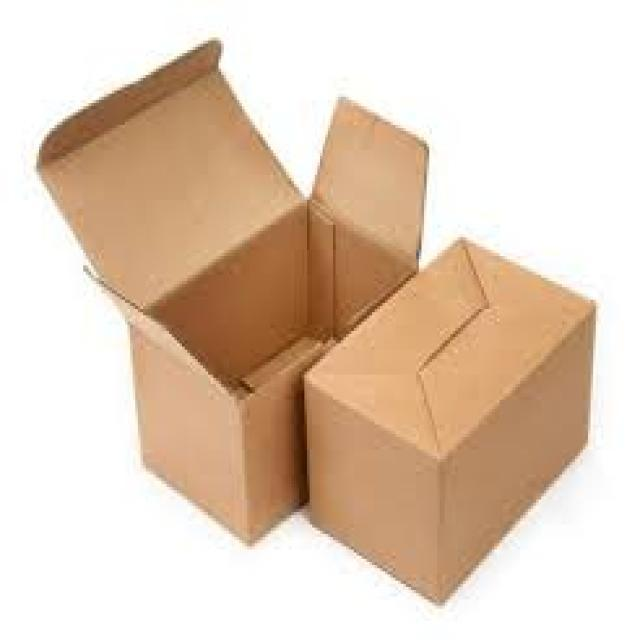Cardboard: (35, 44, 593, 606)
